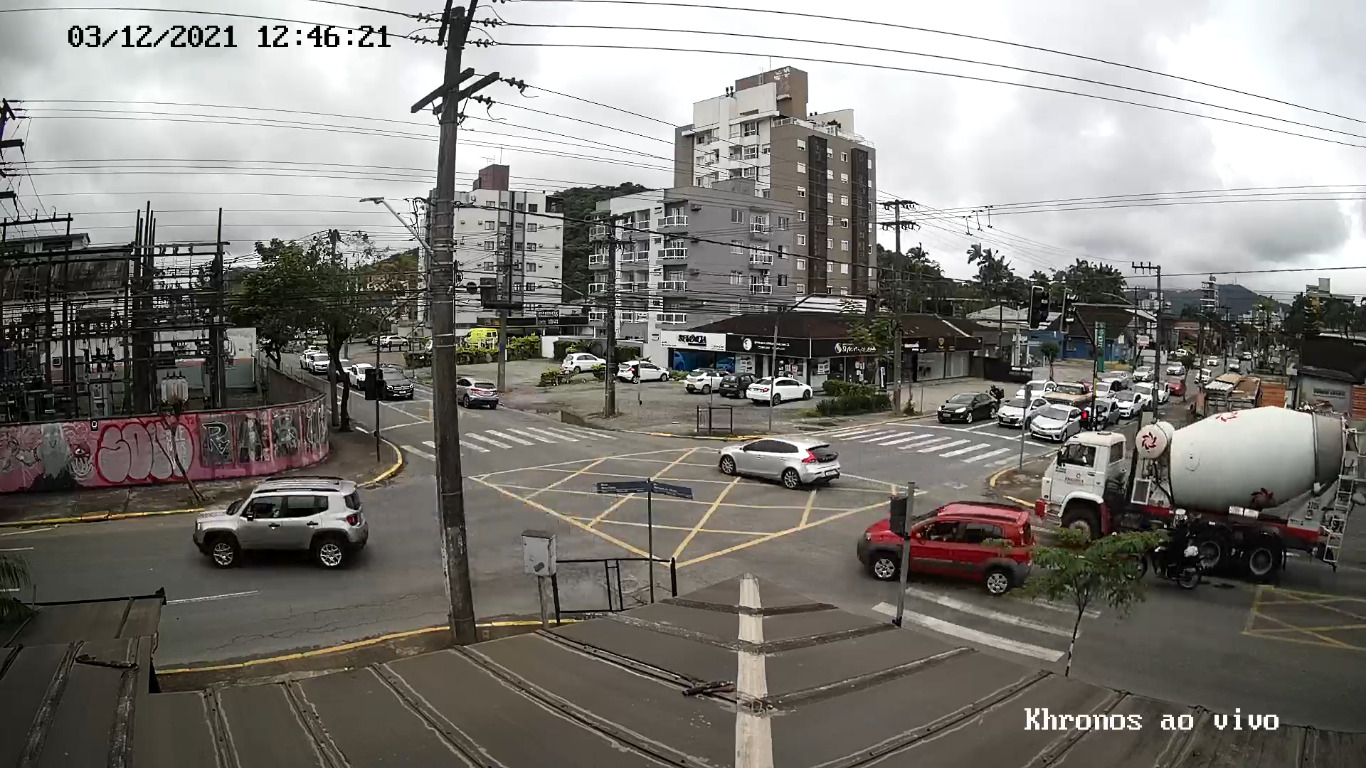car: (856, 499, 1035, 596), (193, 472, 370, 570), (717, 432, 840, 490), (936, 390, 1000, 424)
